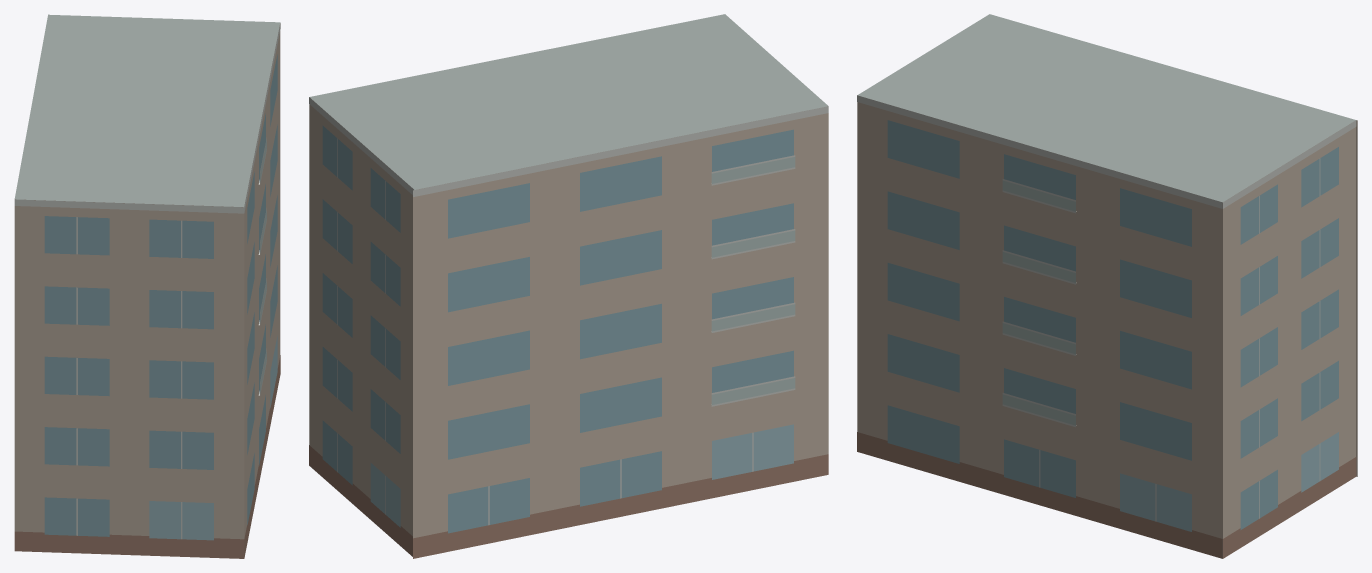
Rendered from survey-upis-32618767.glb.
The picture shows the model from 3 angles, left to right: view 1: azimuth 30°, elevation 25°; view 2: azimuth 150°, elevation 25°; view 3: azimuth 270°, elevation 25°; orthographic projection. The views are drawn at different scales.
Visible parts, largest first — view 1: survey-upis-32618767.tmp; view 2: survey-upis-32618767.tmp; view 3: survey-upis-32618767.tmp.
Boxes of the visible parts, x1,y1,x2,y2 form: survey-upis-32618767.tmp: [14, 14, 280, 558]; survey-upis-32618767.tmp: [309, 14, 828, 558]; survey-upis-32618767.tmp: [857, 14, 1357, 558].
Bounding box in the file's own units: 14.85 × 13.1 × 16.68.
